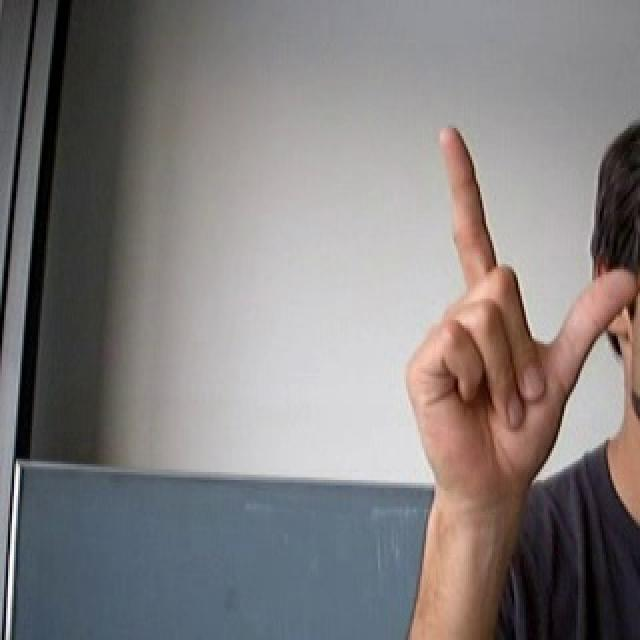L: (401, 111, 637, 510)
